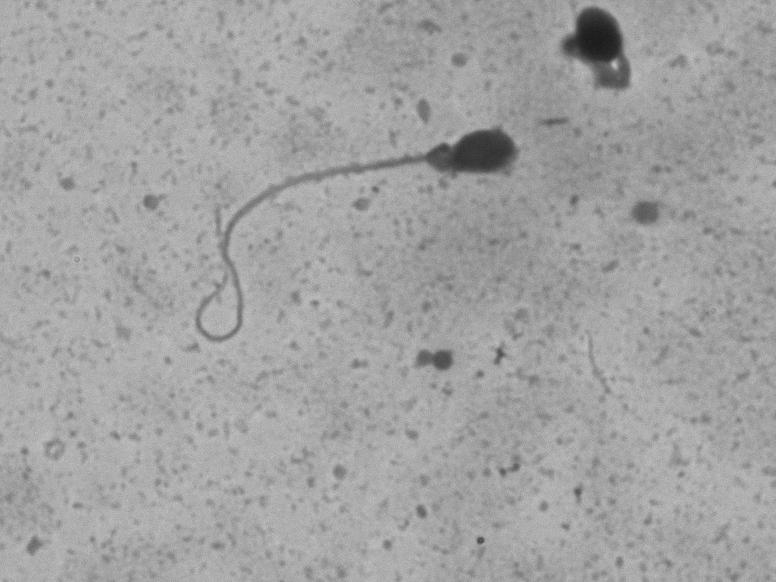Abnormal: (163, 90, 557, 344)
